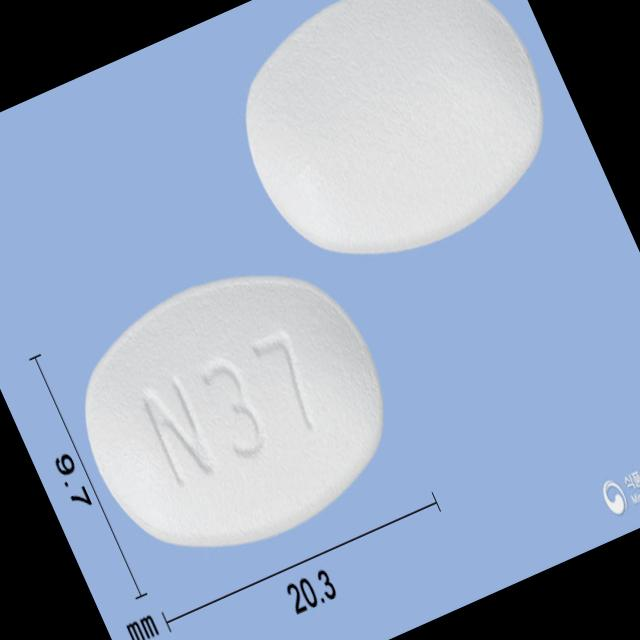Moxiclen Tab-625mg: (44, 228, 423, 593)
